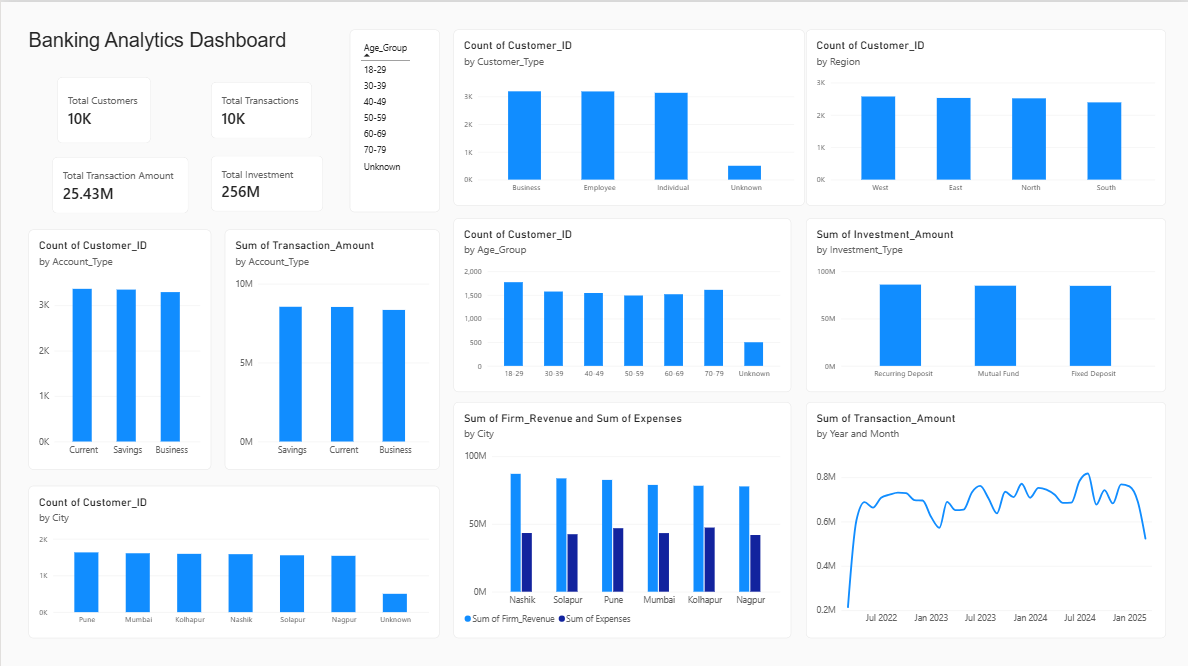

Layout of this report page (visuals, bound fields, positions):
{"tool":"powerbi","page":{"name":"Page 1","canvas":[1920,1080],"ordinal":0},"visuals":[{"type":"cardVisual","fields":{"Data":["customer_cleaned.Total Customers"]},"box":[90.9,121.2,151.5,107],"z":0},{"type":"cardVisual","fields":{"Data":["transaction_cleaned.Total Transactions"]},"box":[339.3,129.2,163.9,91.8],"z":1000},{"type":"cardVisual","fields":{"Data":["transaction_cleaned.Total Transaction Amount"]},"box":[82.8,250.4,220.7,91.8],"z":2000},{"type":"cardVisual","fields":{"Data":["transaction_cleaned.Total Investment"]},"box":[339.3,248.4,181.7,90.9],"z":3000},{"type":"clusteredColumnChart","fields":{"Category":["customer_cleaned.Customer_Type"],"Y":["CountNonNull(customer_cleaned.Customer_ID)"]},"box":[731,44.4,567.4,284.7],"z":4000},{"type":"clusteredColumnChart","fields":{"Category":["customer_cleaned.Age_Group"],"Y":["CountNonNull(customer_cleaned.Customer_ID)"]},"box":[731,349.3,545.2,280.7],"z":5000},{"type":"tableEx","fields":{"Values":["customer_cleaned.Age_Group"]},"box":[563.4,44.4,145.4,294.8],"z":6000},{"type":"clusteredColumnChart","fields":{"Category":["customer_cleaned.City"],"Y":["CountNonNull(customer_cleaned.Customer_ID)"]},"box":[44.4,781.5,664.4,246.4],"z":7000},{"type":"clusteredColumnChart","fields":{"Category":["customer_cleaned.Region"],"Y":["CountNonNull(customer_cleaned.Customer_ID)"]},"box":[1300.5,44.4,581.6,284.7],"z":8000},{"type":"clusteredColumnChart","fields":{"Category":["transaction_cleaned.Account_Type"],"Y":["CountNonNull(transaction_cleaned.Customer_ID)"]},"box":[44.4,367.5,294.8,387.7],"z":9000},{"type":"clusteredColumnChart","fields":{"Category":["transaction_cleaned.Account_Type"],"Y":["Sum(transaction_cleaned.Transaction_Amount)"]},"box":[361.5,367.5,347.3,387.7],"z":10000},{"type":"clusteredColumnChart","fields":{"Category":["transaction_cleaned.Investment_Type"],"Y":["Sum(transaction_cleaned.Investment_Amount)"]},"box":[1300.5,349.3,581.6,280.7],"z":11000},{"type":"lineChart","fields":{"Y":["Sum(transaction_cleaned.Transaction_Amount)"],"Category":["transaction_cleaned.Transaction_Date.Variation.Date Hierarchy.Year","transaction_cleaned.Transaction_Date.Variation.Date Hierarchy.Month"]},"box":[1300.5,646.2,581.6,381.7],"z":12000},{"type":"clusteredColumnChart","fields":{"Category":["bank_cleaned.City"],"Y":["Sum(bank_cleaned.Firm_Revenue)","Sum(bank_cleaned.Expenses)"]},"box":[731,646.2,545.2,381.7],"z":13000},{"type":"textbox","box":[44.4,44.4,510.9,56.5],"z":14000}]}

Visuals, with their boxes in screenshot pixels (x1, y1, x2, y2), scaled from the page's 1920x1080 canvas onto the 1188x666 screenshot:
cardVisual - customer_cleaned.Total Customers: region(56, 75, 150, 141)
cardVisual - transaction_cleaned.Total Transactions: region(210, 80, 311, 136)
cardVisual - transaction_cleaned.Total Transaction Amount: region(51, 154, 188, 211)
cardVisual - transaction_cleaned.Total Investment: region(210, 153, 322, 209)
clusteredColumnChart - customer_cleaned.Customer_Type x CountNonNull(customer_cleaned.Customer_ID): region(452, 27, 803, 203)
clusteredColumnChart - customer_cleaned.Age_Group x CountNonNull(customer_cleaned.Customer_ID): region(452, 215, 790, 388)
tableEx - customer_cleaned.Age_Group: region(349, 27, 439, 209)
clusteredColumnChart - customer_cleaned.City x CountNonNull(customer_cleaned.Customer_ID): region(27, 482, 439, 634)
clusteredColumnChart - customer_cleaned.Region x CountNonNull(customer_cleaned.Customer_ID): region(805, 27, 1165, 203)
clusteredColumnChart - transaction_cleaned.Account_Type x CountNonNull(transaction_cleaned.Customer_ID): region(27, 227, 210, 466)
clusteredColumnChart - transaction_cleaned.Account_Type x Sum(transaction_cleaned.Transaction_Amount): region(224, 227, 439, 466)
clusteredColumnChart - transaction_cleaned.Investment_Type x Sum(transaction_cleaned.Investment_Amount): region(805, 215, 1165, 388)
lineChart - Sum(transaction_cleaned.Transaction_Amount) x transaction_cleaned.Transaction_Date.Variation.Date Hierarchy.Year: region(805, 398, 1165, 634)
clusteredColumnChart - bank_cleaned.City x Sum(bank_cleaned.Firm_Revenue): region(452, 398, 790, 634)
textbox: region(27, 27, 344, 62)
